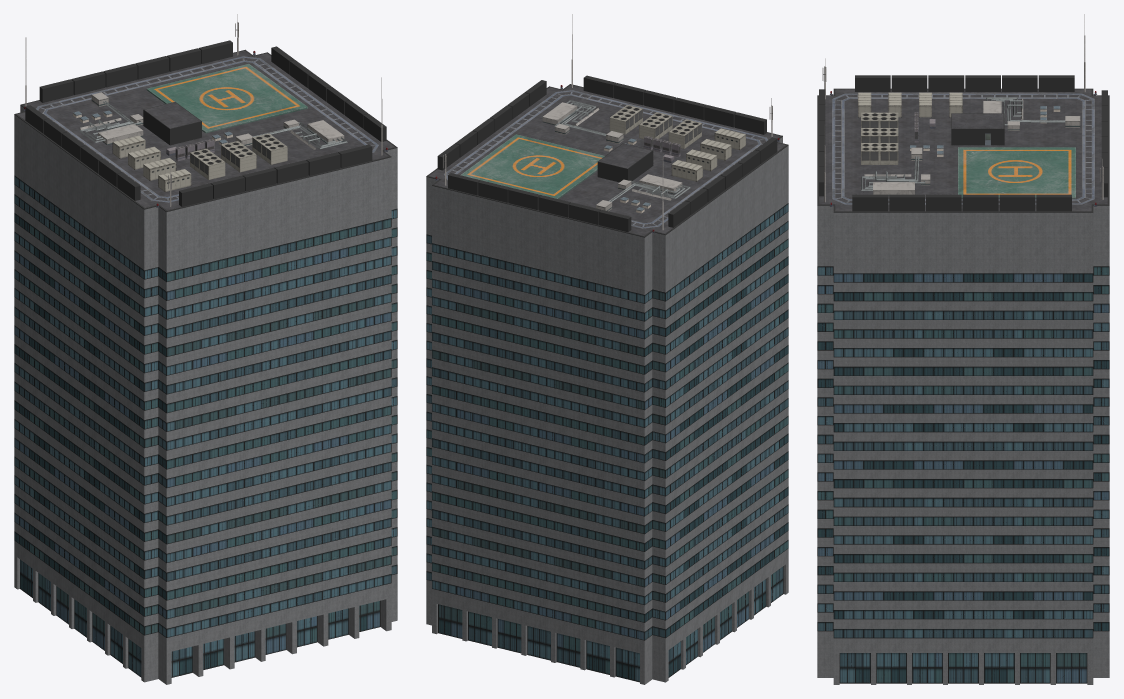
Rendered from building_Ab.FBX.
3 views of the same model, side by side, from view 1: azimuth 30°, elevation 25°; view 2: azimuth 150°, elevation 25°; view 3: azimuth 270°, elevation 25° (orthographic). The views are drawn at different scales.
Visible parts, largest first — view 1: building_Ab; view 2: building_Ab; view 3: building_Ab.
Boxes of the visible parts, x1,y1,x2,y2 form: building_Ab: (14,14,397,684); building_Ab: (426,14,788,684); building_Ab: (817,14,1109,684).
Size of what is drawn, in the model's own units: 1949 by 1949 by 4056.
